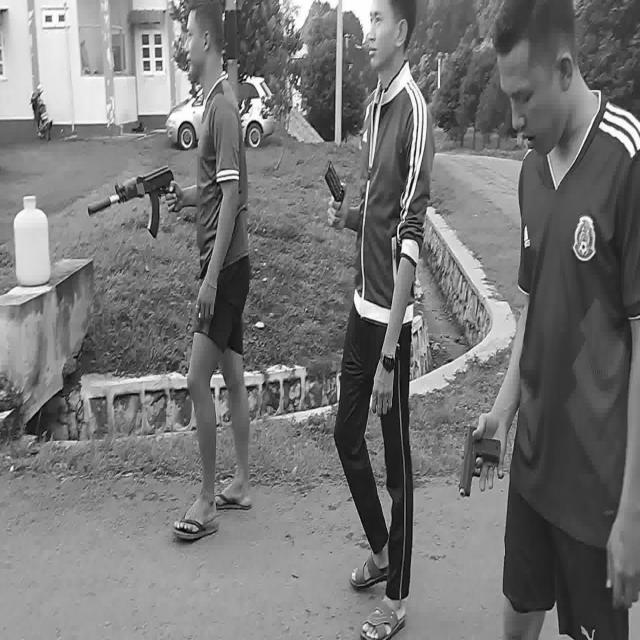gun: (87, 167, 181, 237), (459, 425, 501, 496)
